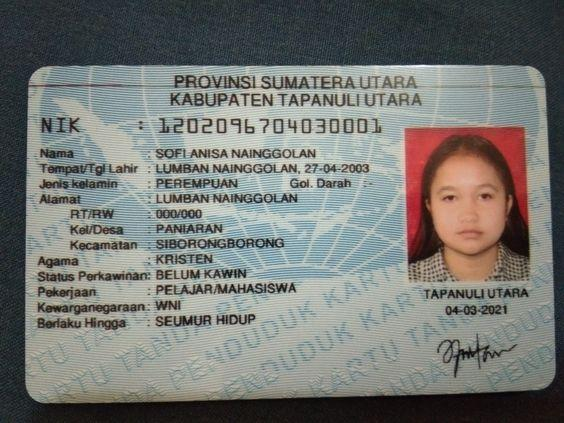ID-card: (29, 67, 554, 400)
